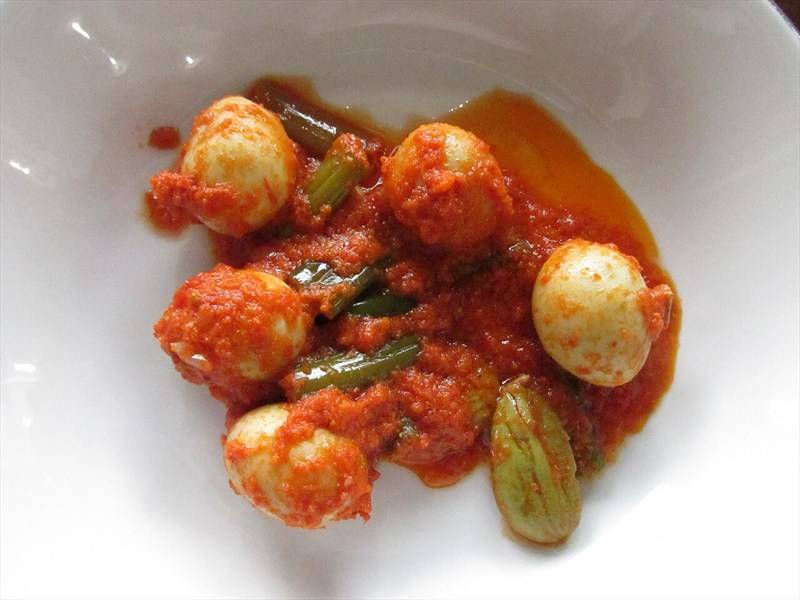Telur Balado: (162, 99, 663, 491)
